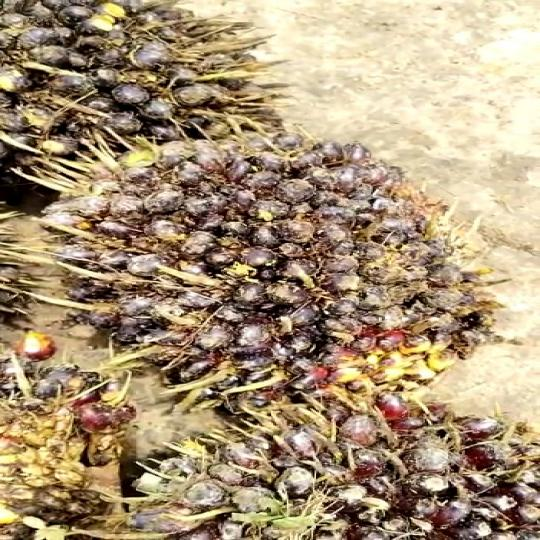mentah: (59, 117, 504, 411)
